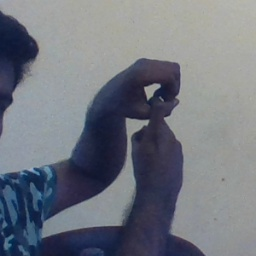Q: (102, 52, 189, 165)
